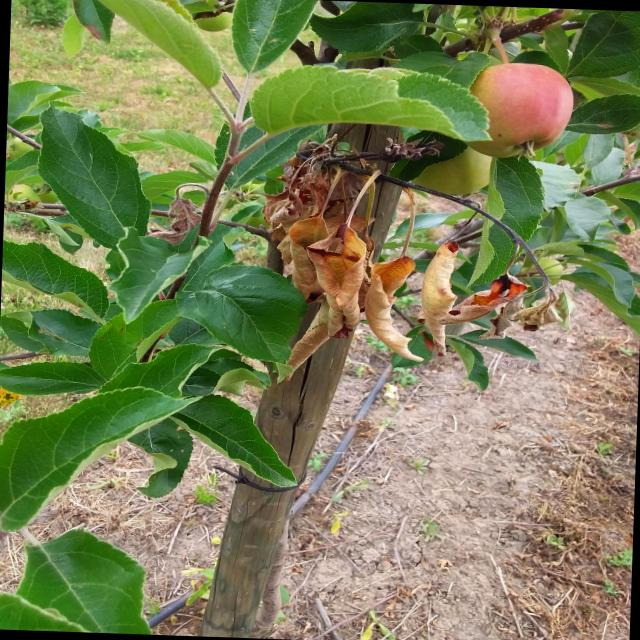-FireBlight-: (270, 166, 550, 354)
